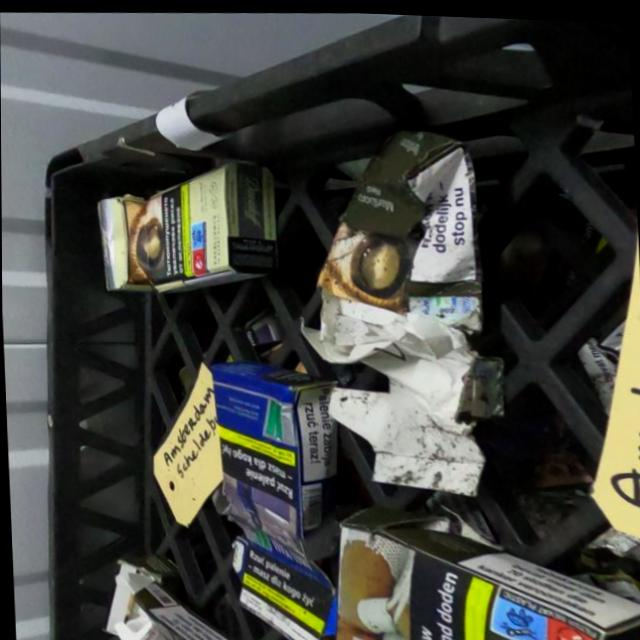Paper: (288, 118, 513, 500), (199, 344, 359, 640), (329, 489, 640, 640), (92, 154, 282, 299), (97, 551, 243, 640)
